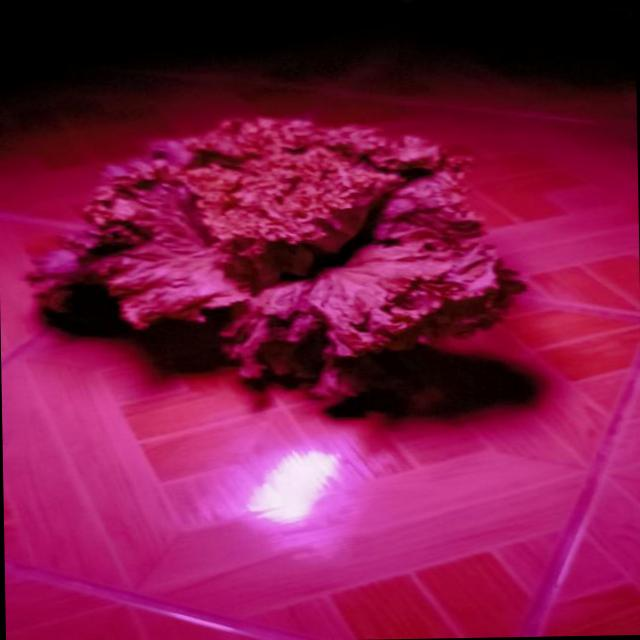Lettuce-Ready-to-Harvest: (30, 117, 523, 398)
